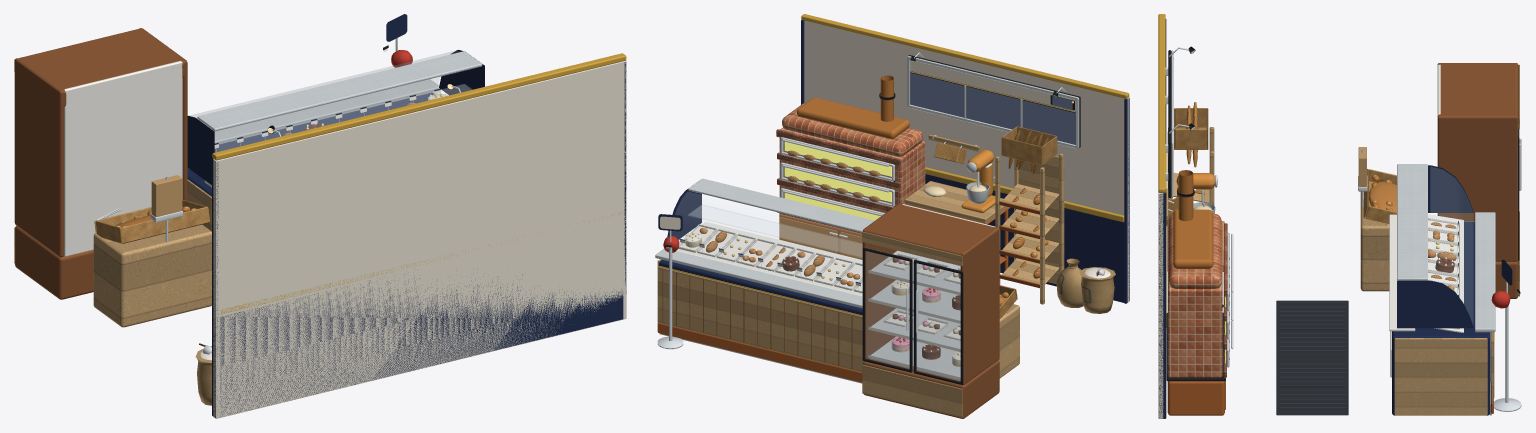
File: sector-padaria_T3.fbx
3 renders of one model, left to right at view 1: azimuth 30°, elevation 25°; view 2: azimuth 150°, elevation 25°; view 3: azimuth 270°, elevation 25°, orthographic. The views are drawn at different scales.
Visible parts, largest first — view 1: Back Wall, Body; view 2: Body, Back Wall, Wall Dressing; view 3: Body, Back Wall, Wall Dressing.
Part boxes in pixels (x1,y1,x2,y2): Back Wall: [212, 53, 626, 418]; Body: [14, 14, 484, 405]; Body: [655, 75, 1115, 418]; Back Wall: [801, 14, 1129, 303]; Wall Dressing: [907, 52, 1080, 163]; Body: [1166, 63, 1521, 415]; Back Wall: [1158, 14, 1166, 418]; Wall Dressing: [1165, 46, 1195, 226].
Size of the model in its own units: 4 by 2.45 by 3.5.
